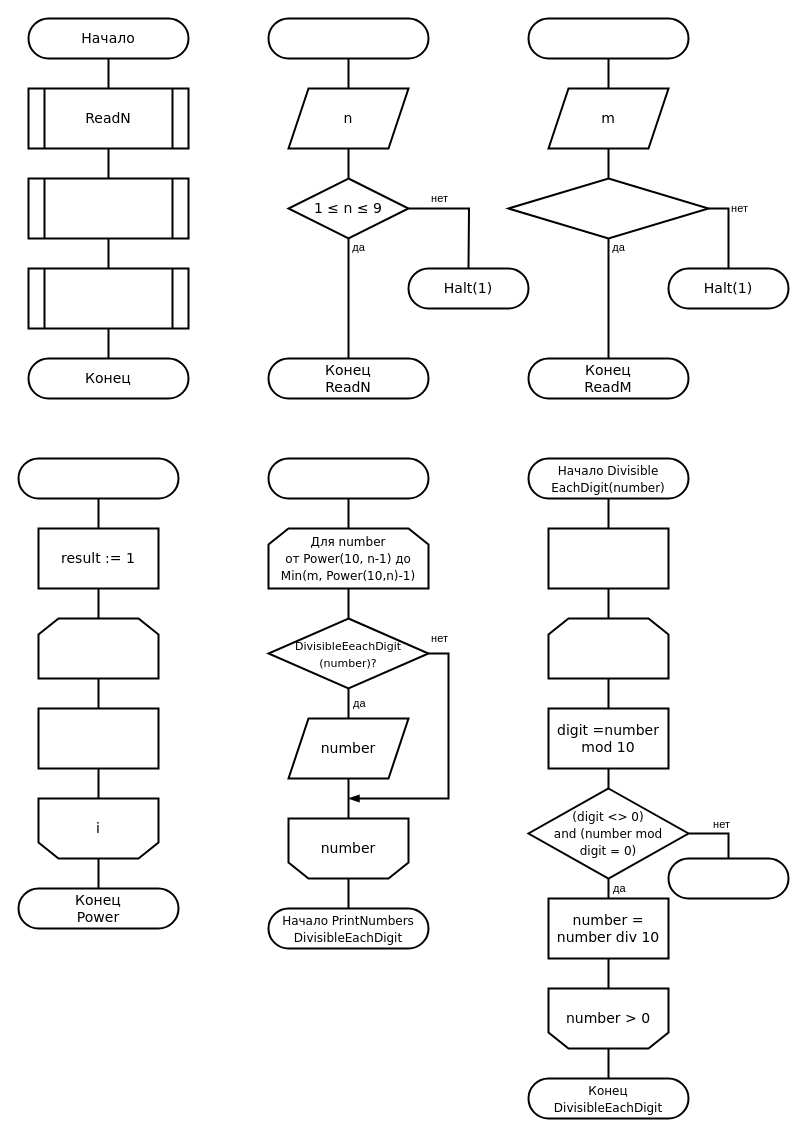
This 806x1136 diagram has some shape labels left out. The shapes that lost their labels are listed below. From the top down, each one's centre as x and y in pixels, then its label:
[348,38]: Начало ReadN(n)
[608,38]: Начало ReadM(n,m)
[108,208]: ReadM
[608,208]: Power(10,n-1) ≤ m ≤ Power(10,n)-1
[108,298]: PrintNumbers DivisibleEach Digit(n, m)
[98,478]: Начало Power(base, exp)
[348,478]: Начало PrintNumbers DivisibleEachDigit(n, m)
[608,558]: result := true
[98,648]: Для i от 1 до exp
[608,648]: Пока number > 0
[98,738]: result := result * base
[728,878]: exit(false)
